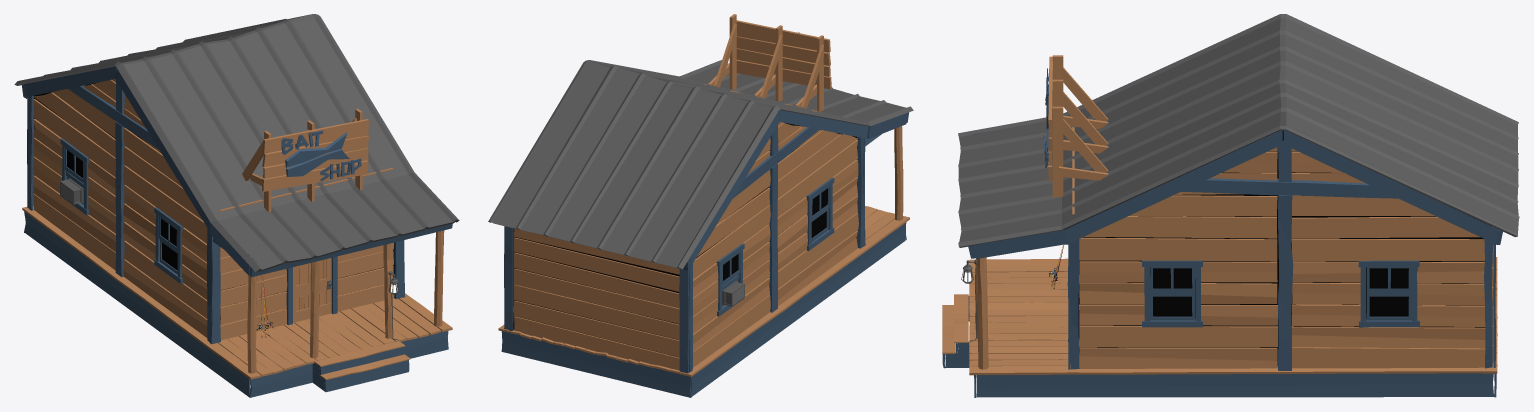
Rendered from shop_baitshop-1.fbx.
The picture shows the model from 3 angles, left to right: view 1: azimuth 30°, elevation 25°; view 2: azimuth 150°, elevation 25°; view 3: azimuth 270°, elevation 25°; orthographic projection. The views are drawn at different scales.
Parts seen in each view (by area): view 1: roof, walls, trim, floor boards, sign, foundation, porch_columns, steps, door, window_4, window_1; view 2: roof, walls, trim, foundation, sign, floor boards, window_4, porch_columns, window_1; view 3: roof, walls, trim, floor boards, foundation, sign, window_3, window_2, steps, porch_columns.
Boxes of the visible parts, box(x1,y1,x2,y2) form: roof: box(14, 14, 459, 272); walls: box(33, 73, 394, 340); trim: box(21, 66, 452, 344); floor boards: box(22, 206, 452, 379); sign: box(242, 108, 368, 212); foundation: box(24, 211, 448, 397); porch_columns: box(247, 230, 444, 373); steps: box(312, 341, 410, 392); door: box(293, 258, 331, 322); window_4: box(60, 147, 84, 204); window_1: box(158, 216, 177, 274); roof: box(488, 60, 913, 269); walls: box(513, 84, 858, 370); trim: box(504, 110, 909, 373); foundation: box(501, 222, 906, 397); sign: box(708, 14, 831, 111); floor boards: box(498, 206, 909, 376); window_4: box(722, 252, 744, 306); porch_columns: box(894, 126, 903, 220); window_1: box(811, 186, 829, 241); roof: box(958, 14, 1519, 247); walls: box(1072, 127, 1493, 368); trim: box(968, 129, 1502, 370); floor boards: box(969, 257, 1497, 375); foundation: box(974, 373, 1496, 397); sign: box(1043, 55, 1108, 197); window_3: box(1150, 267, 1194, 320); window_2: box(1367, 267, 1411, 320); steps: box(942, 294, 969, 368); porch_columns: box(975, 257, 988, 369).
Bounding box in the file's own units: 650 × 714 × 1358.
